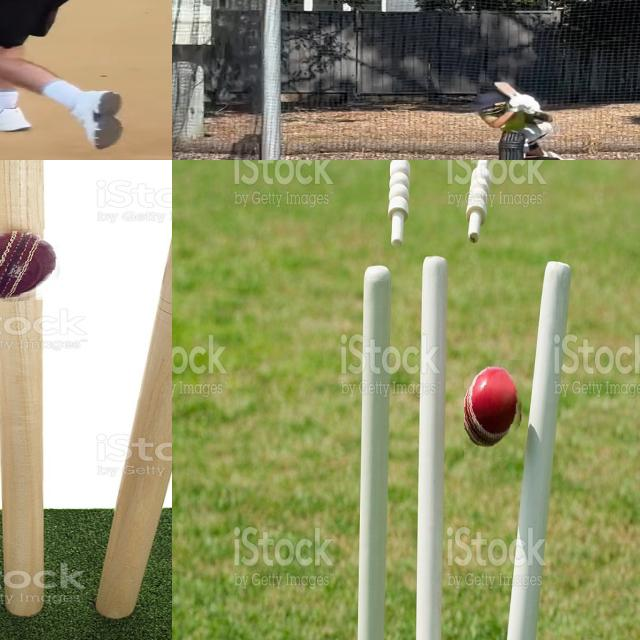Cricket ball: (464, 360, 526, 460), (0, 229, 68, 305)
Stumps: (354, 256, 574, 640)
